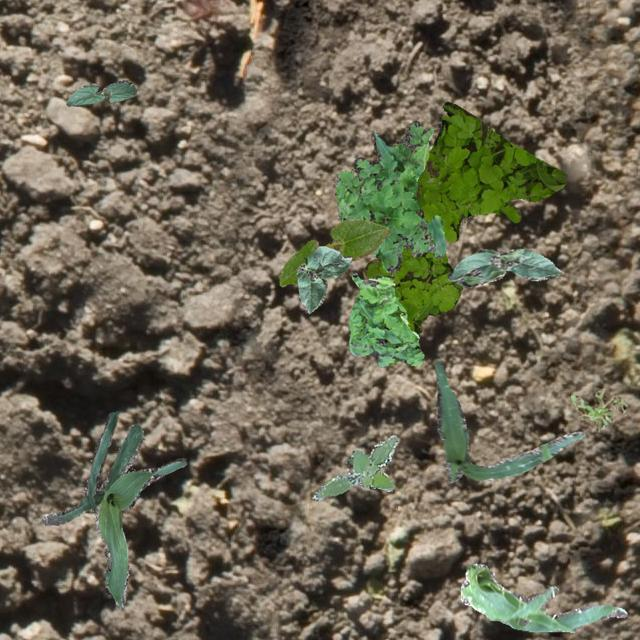crop: (41, 410, 186, 608), (434, 359, 584, 482), (460, 562, 626, 632), (278, 217, 389, 286), (446, 246, 560, 286), (294, 245, 350, 312), (66, 78, 134, 105)
weed: (362, 100, 566, 332), (334, 120, 444, 272), (348, 272, 422, 366), (312, 434, 398, 499), (568, 388, 626, 430)
